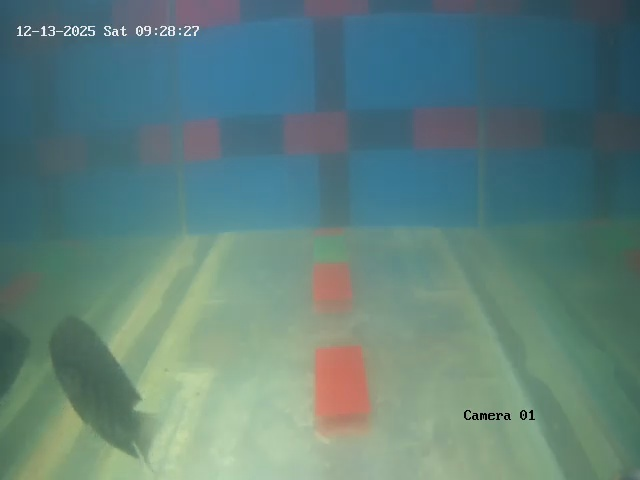fish: (27, 310, 167, 458)
